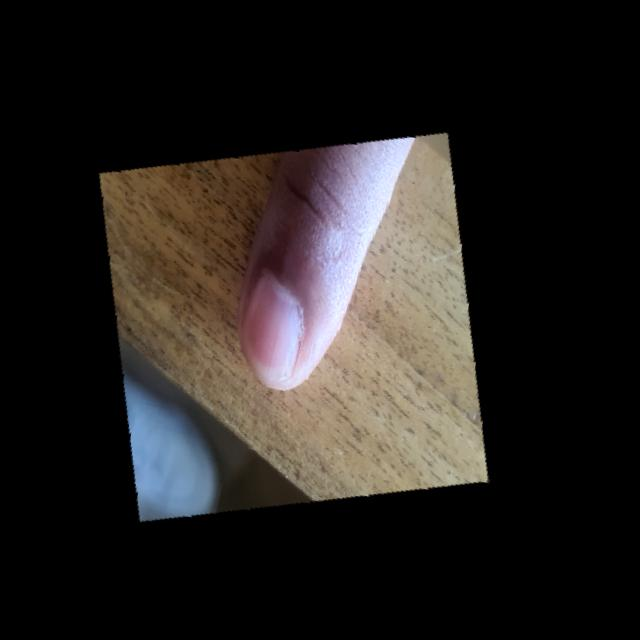Nail: (240, 275, 300, 380)
